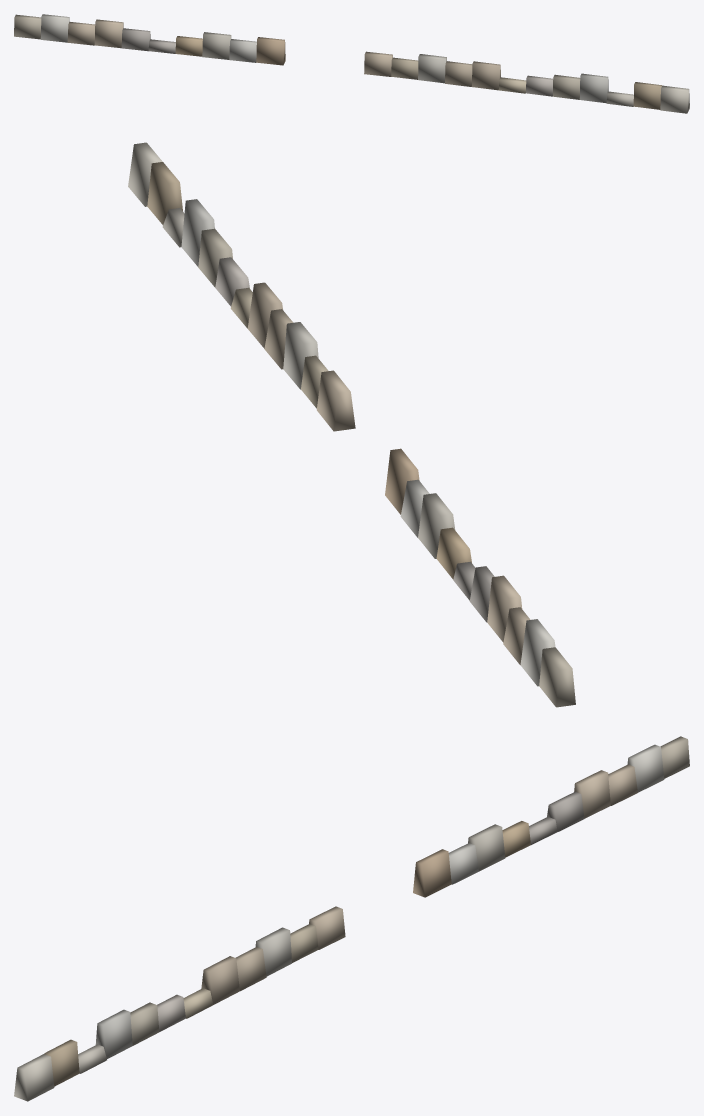
Rendered from farm_-10_7_collision.glb.
3 renders of one model, top to bottom at view 1: azimuth 30°, elevation 25°; view 2: azimuth 150°, elevation 25°; view 3: azimuth 270°, elevation 25°, orthographic. The views are drawn at different scales.
Visible parts, largest first — view 1: geometry_0; view 2: geometry_0; view 3: geometry_0.
Part boxes in pixels (box(x1,y1,x2,y2)): geometry_0: box(14, 14, 689, 113); geometry_0: box(128, 142, 575, 707); geometry_0: box(14, 736, 689, 1101).
Bounding box in the file's own units: 29.84 × 2.39 × 26.95.
